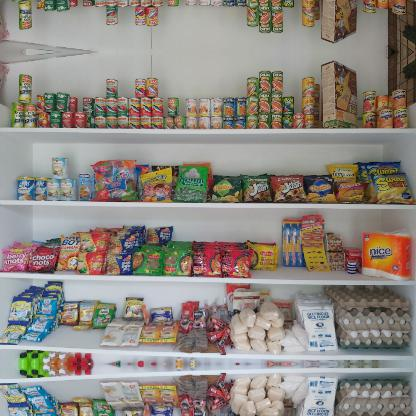Koko-Krunch: (321, 60, 357, 128), (321, 0, 358, 45)
